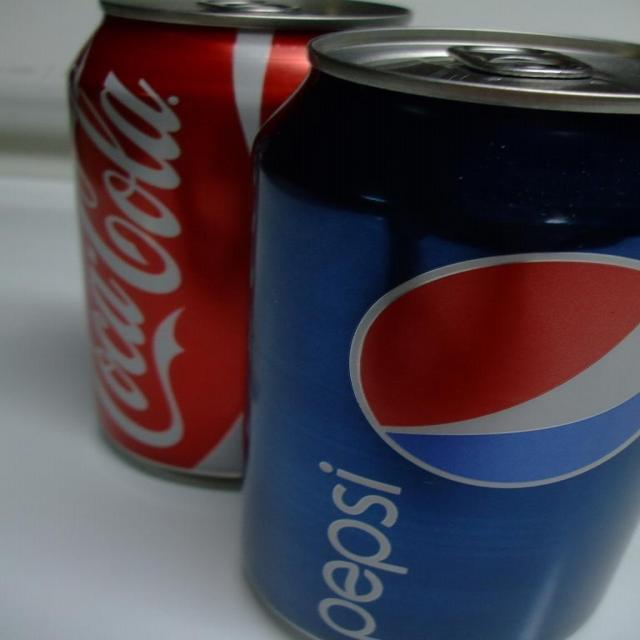tin can: (253, 28, 640, 640), (63, 0, 415, 482)
